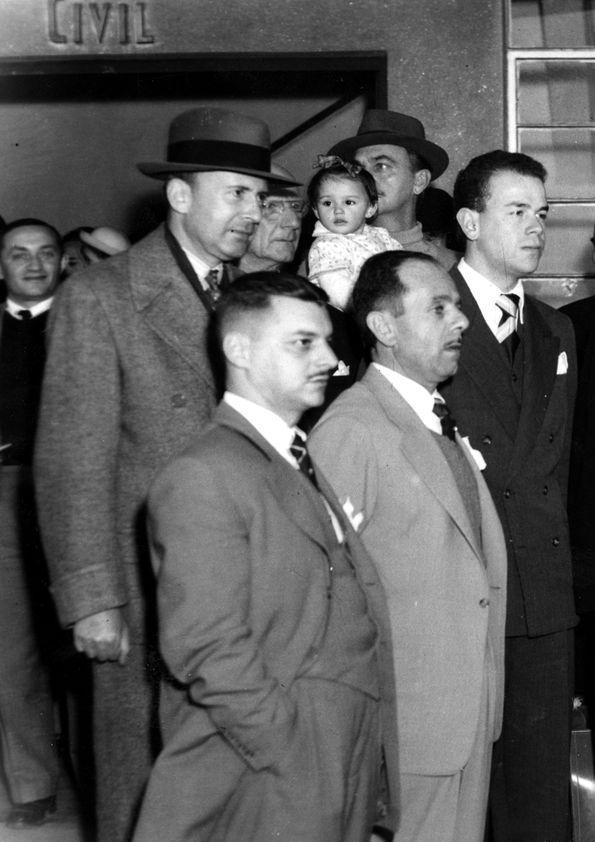person: (184, 241, 370, 527), (411, 124, 595, 383)
